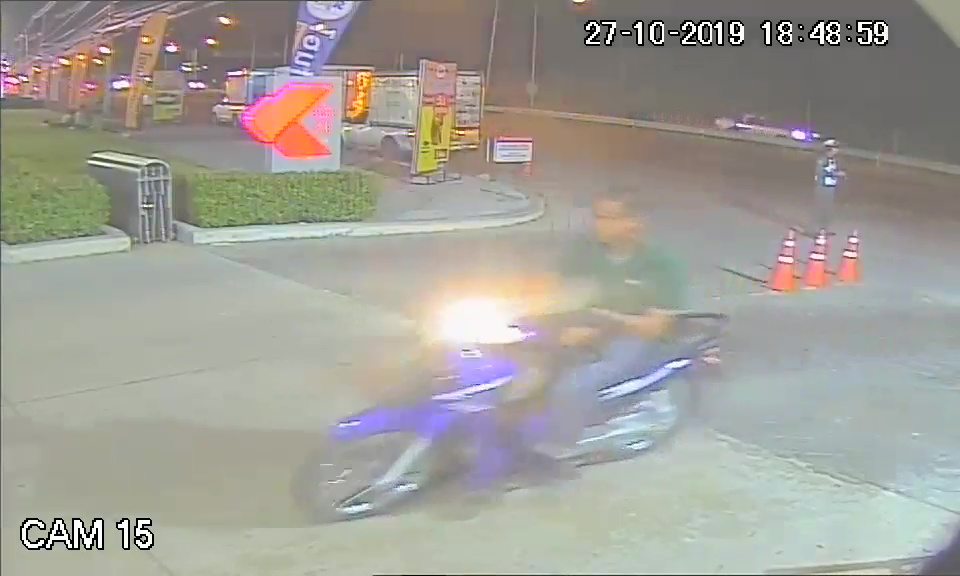motorcycle: (284, 306, 728, 526)
